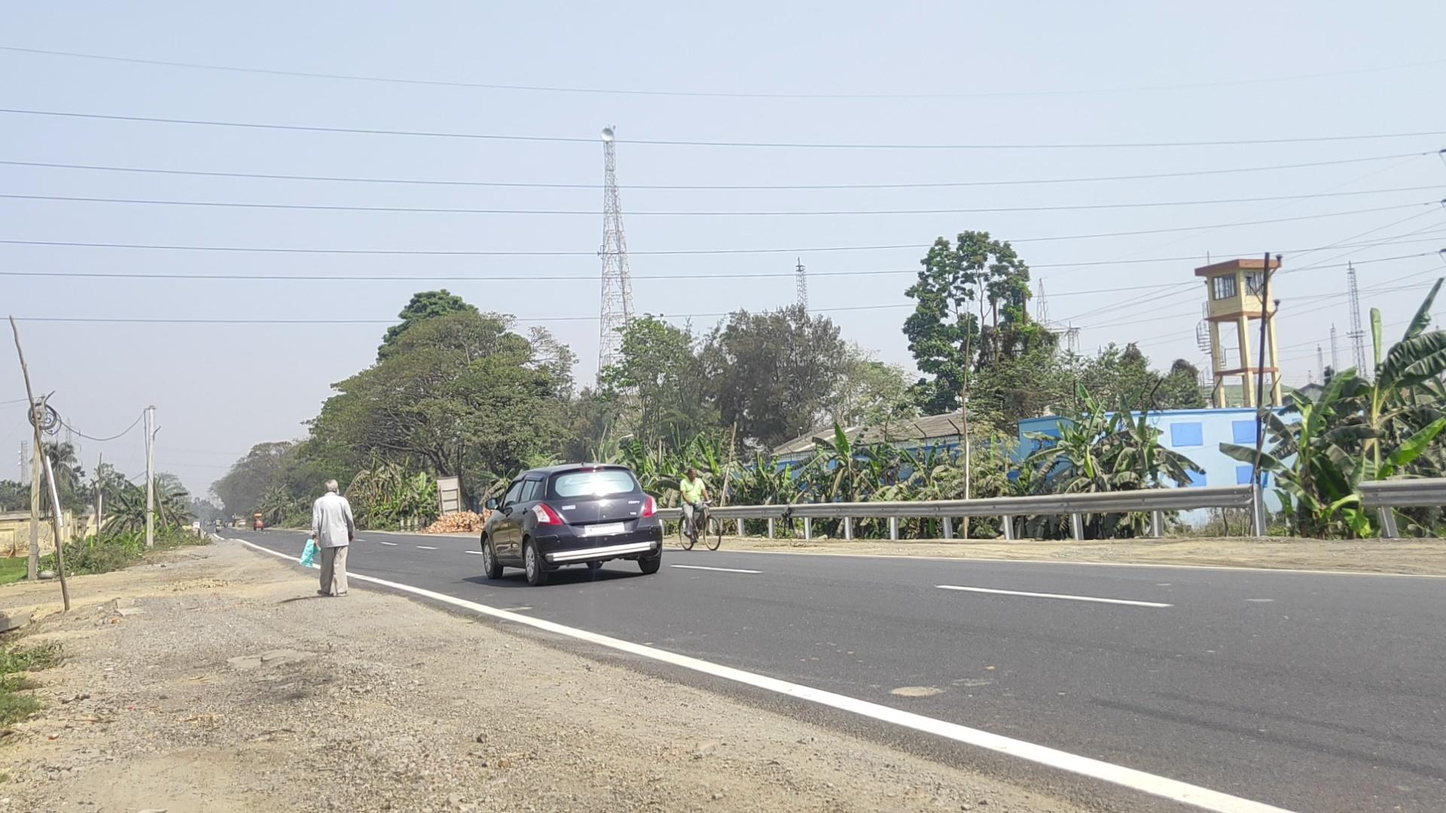bike: (677, 467, 721, 552)
car: (481, 463, 664, 586)
